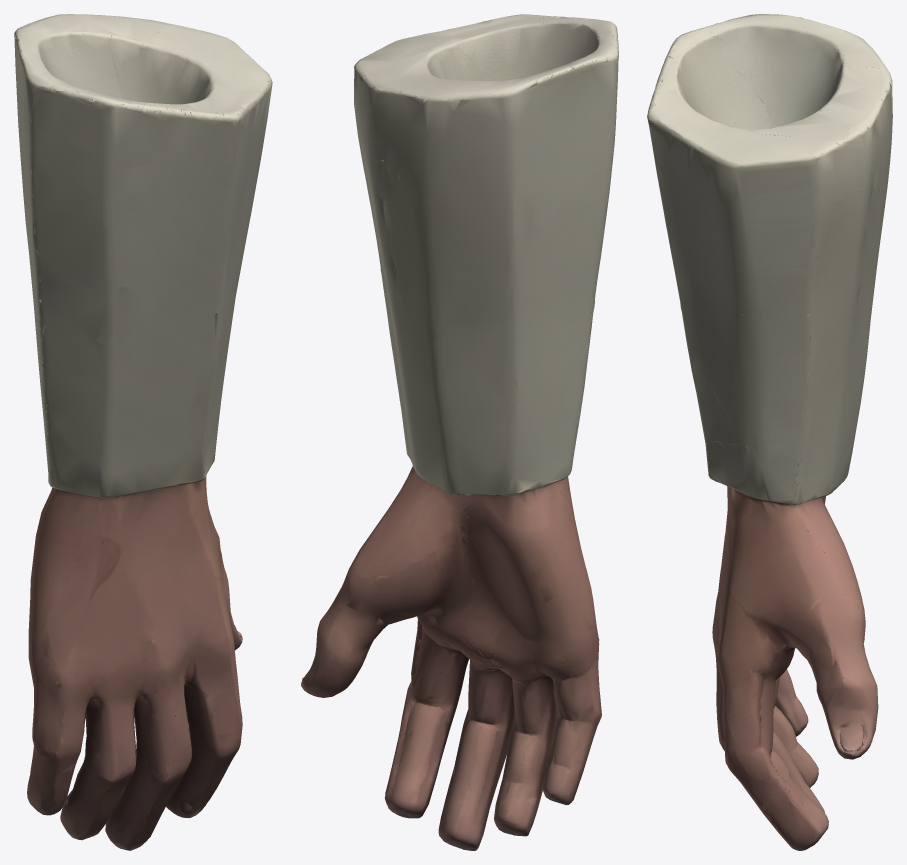
The model's file is manoDer.obj.
3 renders of one model, left to right at view 1: azimuth 30°, elevation 25°; view 2: azimuth 150°, elevation 25°; view 3: azimuth 270°, elevation 25°, orthographic. The views are drawn at different scales.
Parts seen in each view (by area): view 1: model.003; view 2: model.003; view 3: model.003.
Boxes of the visible parts, x1=… form: model.003: x1=14, y1=14, x2=272, y2=850; model.003: x1=301, y1=14, x2=618, y2=850; model.003: x1=647, y1=14, x2=892, y2=850.
Size of the model in its own units: 0.1068 by 0.3173 by 0.0914.
1 material, 1 textured.
